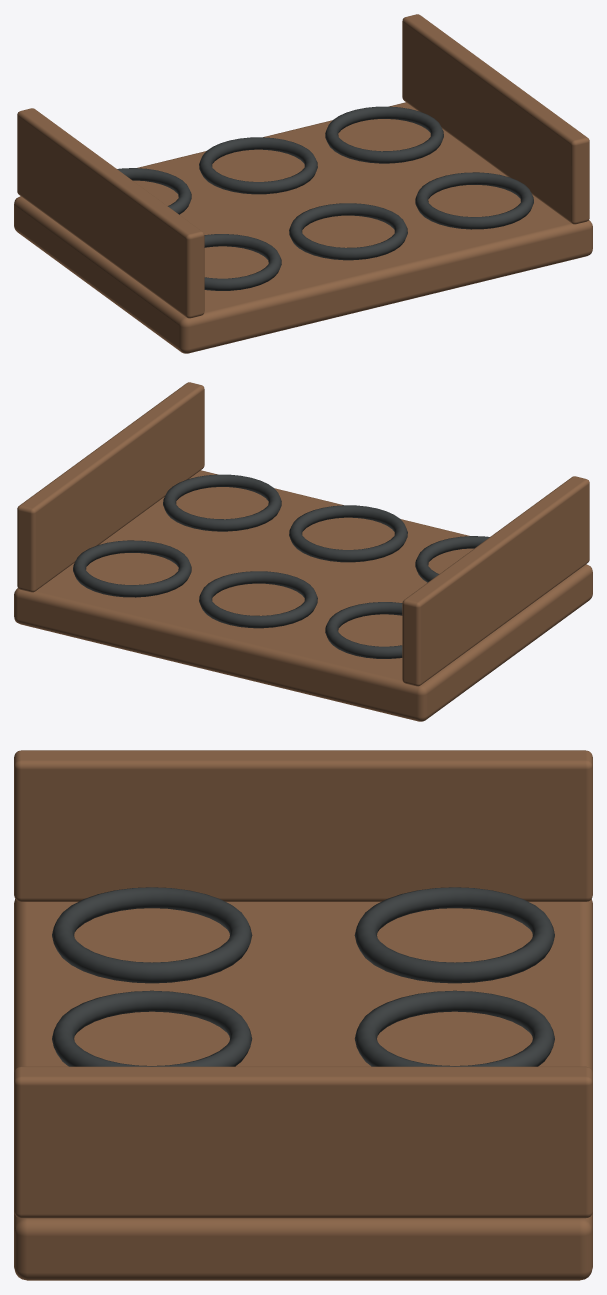
Rendered from clockmaker-and-watch-repair-gasket-organizer-84697560__30628.glb.
The picture shows the model from 3 angles, top to bottom: view 1: azimuth 30°, elevation 25°; view 2: azimuth 150°, elevation 25°; view 3: azimuth 270°, elevation 25°; orthographic projection. The views are drawn at different scales.
Parts seen in each view (by area): view 1: gasket-organizer; view 2: gasket-organizer; view 3: gasket-organizer.
Boxes of the visible parts, box(x1,y1,x2,y2) form: gasket-organizer: box(14, 14, 592, 353); gasket-organizer: box(14, 382, 592, 721); gasket-organizer: box(14, 750, 592, 1280).
Size of the model in its own units: 0.18 by 0.05 by 0.13.
